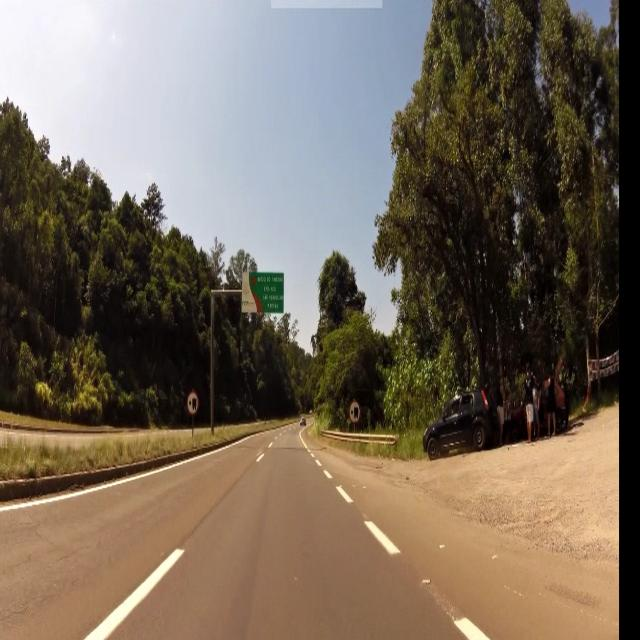I-4: (255, 270, 285, 313)
R-27: (350, 397, 360, 424), (186, 391, 198, 412)
